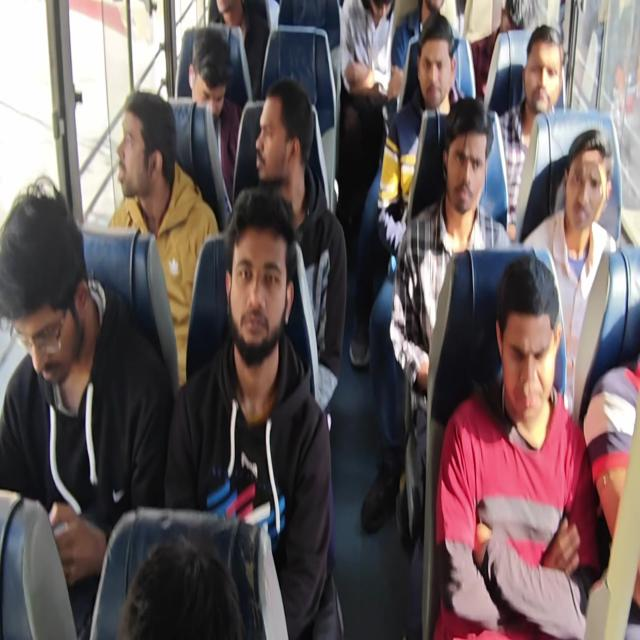person: (2, 205, 88, 368), (493, 286, 568, 428), (222, 212, 292, 362), (112, 102, 169, 198), (562, 134, 610, 228), (450, 116, 490, 212), (187, 40, 230, 128), (254, 100, 301, 178), (523, 27, 565, 105), (495, 0, 545, 46), (487, 0, 545, 39), (211, 0, 250, 40), (422, 38, 447, 94), (420, 0, 449, 27), (348, 0, 401, 14)
